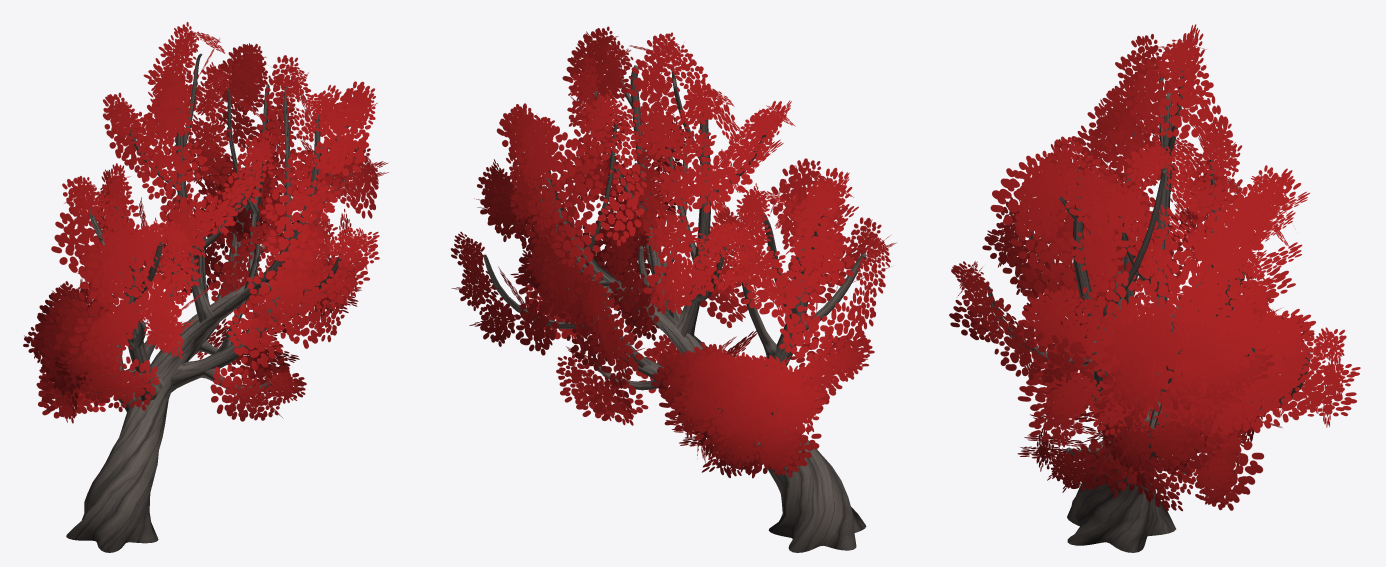
The model's file is twisted-tree-9awlx82xuf-transformed.glb.
3 renders of one model, left to right at view 1: azimuth 30°, elevation 25°; view 2: azimuth 150°, elevation 25°; view 3: azimuth 270°, elevation 25°, orthographic. The views are drawn at different scales.
Parts seen in each view (by area): view 1: TwistedTree_1; view 2: TwistedTree_1; view 3: TwistedTree_1.
Boxes of the visible parts, x1=… form: TwistedTree_1: x1=23, y1=22, x2=388, y2=552; TwistedTree_1: x1=451, y1=26, x2=896, y2=552; TwistedTree_1: x1=949, y1=24, x2=1360, y2=552.
Bounding box in the file's own units: 13.52 × 16.73 × 11.55.
Materials: 2 (2 with a texture image).
